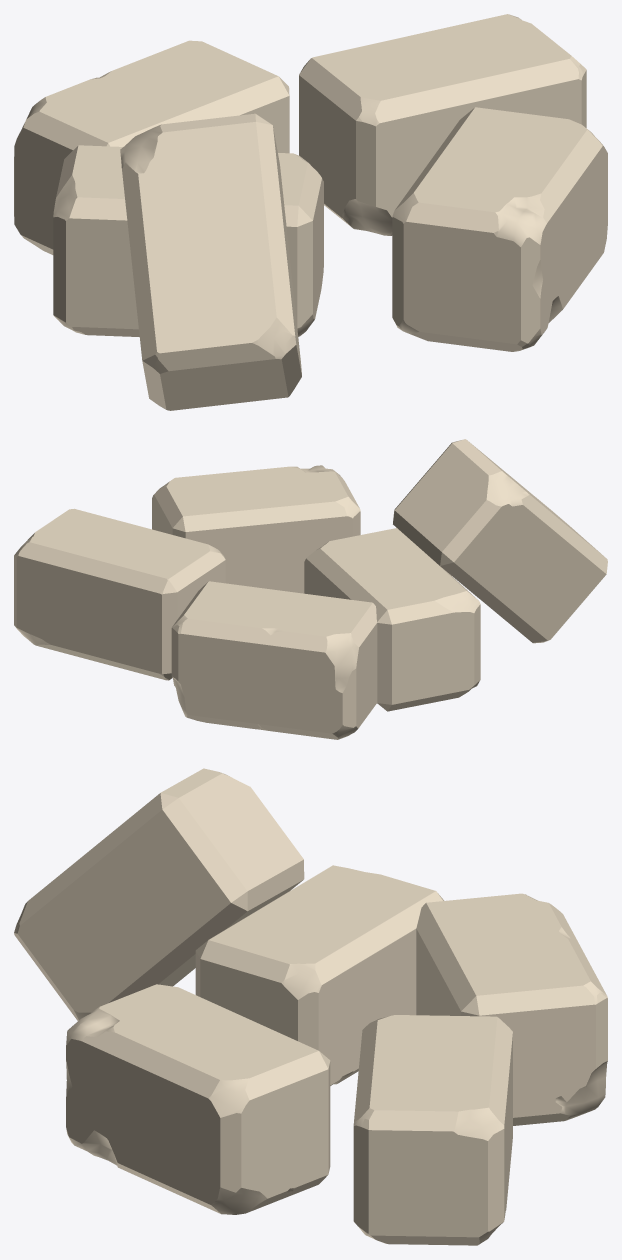
The model's file is Brick_dmg_2.fbx.
3 renders of one model, top to bottom at view 1: azimuth 30°, elevation 25°; view 2: azimuth 150°, elevation 25°; view 3: azimuth 270°, elevation 25°, orthographic. The views are drawn at different scales.
Visible parts, largest first — view 1: bricks.001_dmg.002; view 2: bricks.001_dmg.002; view 3: bricks.001_dmg.002.
Boxes of the visible parts, left/top/right/bottom form: bricks.001_dmg.002: left=14, top=14, right=607, bottom=410; bricks.001_dmg.002: left=14, top=439, right=607, bottom=739; bricks.001_dmg.002: left=14, top=768, right=607, bottom=1245.
Size of the model in its own units: 82.66 by 34.18 by 73.56.
